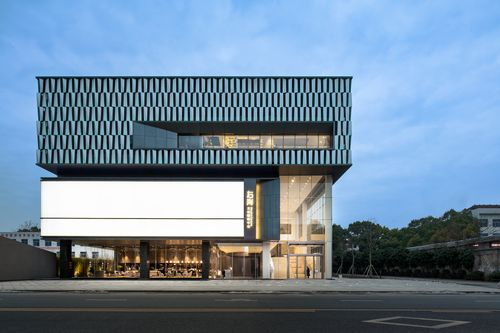buildings: (25, 60, 364, 174)
